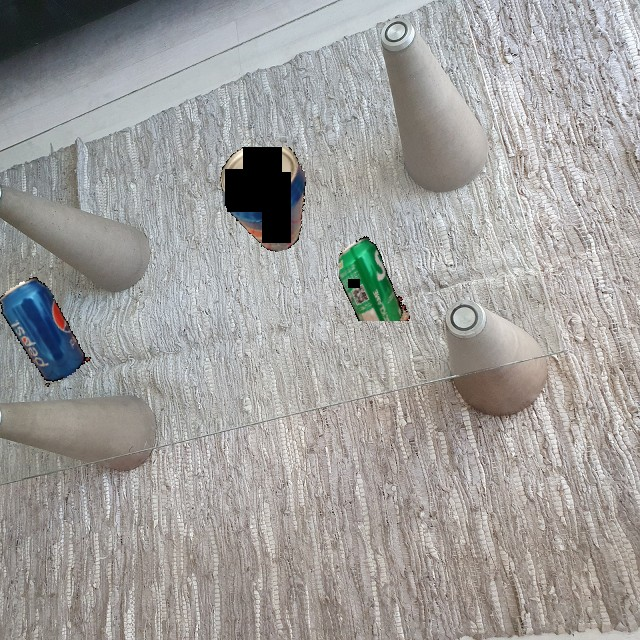pepsi: (0, 268, 91, 389), (216, 147, 318, 252)
sprite: (339, 235, 413, 321)
